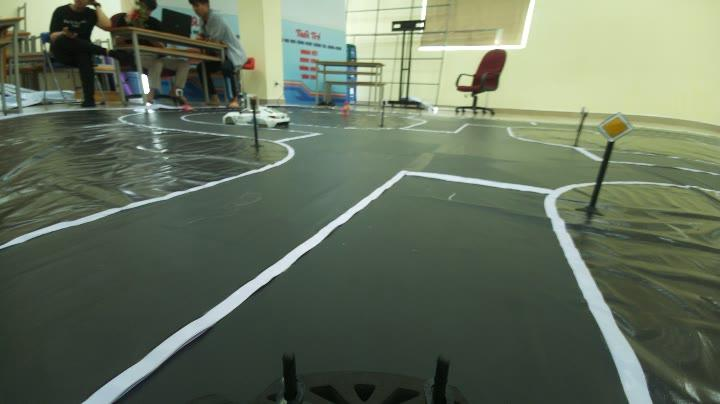priority: (598, 110, 637, 151)
